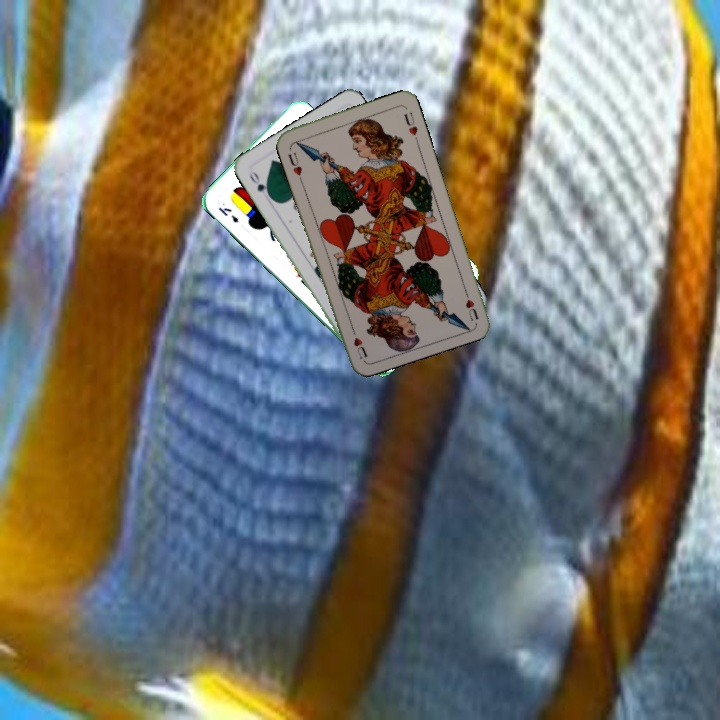EK: (214, 203, 241, 225)
GO: (245, 166, 274, 201)
HU: (460, 284, 481, 324), (284, 148, 305, 183)
